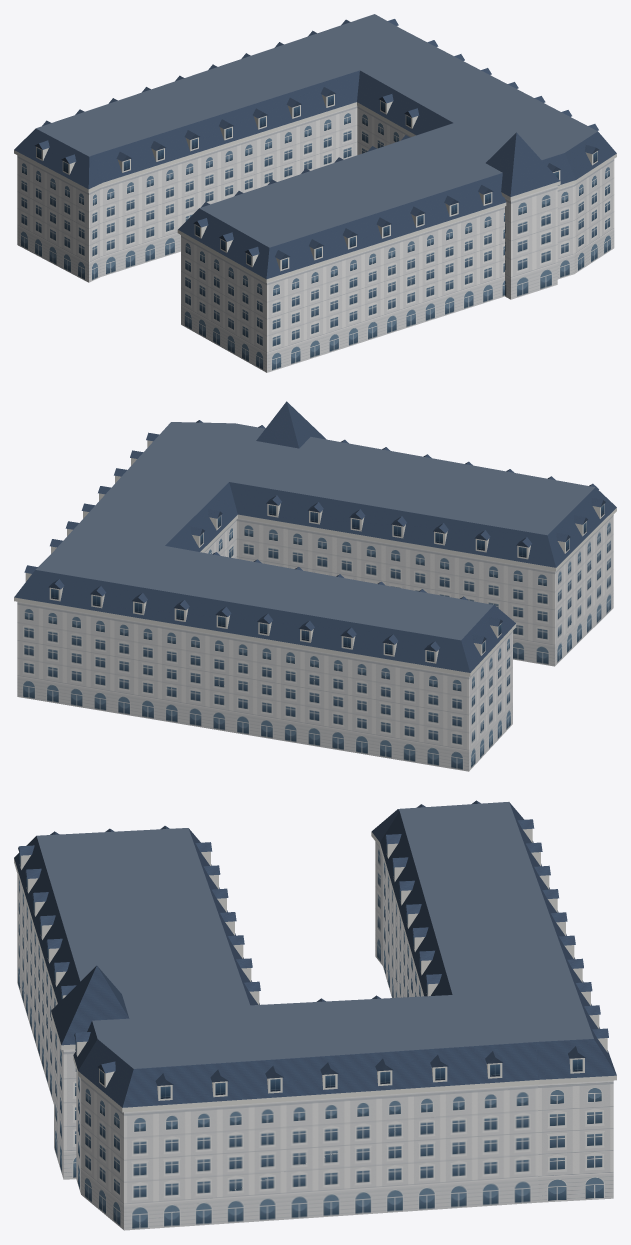
Rendered from xueke2.glb.
The picture shows the model from 3 angles, top to bottom: view 1: azimuth 30°, elevation 25°; view 2: azimuth 150°, elevation 25°; view 3: azimuth 270°, elevation 25°; orthographic projection. The views are drawn at different scales.
Visible parts, largest first — view 1: 学科2号楼_屋顶, 学科2号楼_主体; view 2: 学科2号楼_屋顶, 学科2号楼_主体; view 3: 学科2号楼_屋顶, 学科2号楼_主体.
Part boxes in pixels (x1=…): 学科2号楼_屋顶: x1=14, y1=14, x2=616, y2=279; 学科2号楼_主体: x1=14, y1=102, x2=616, y2=372; 学科2号楼_屋顶: x1=14, y1=401, x2=616, y2=672; 学科2号楼_主体: x1=14, y1=508, x2=616, y2=771; 学科2号楼_屋顶: x1=14, y1=800, x2=616, y2=1107; 学科2号楼_主体: x1=14, y1=832, x2=616, y2=1230.
Bounding box in the file's own units: 79.15 × 25.3 × 70.46.
5 materials, 3 textured.
